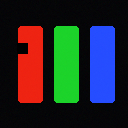1 square: (17, 43, 27, 53)
